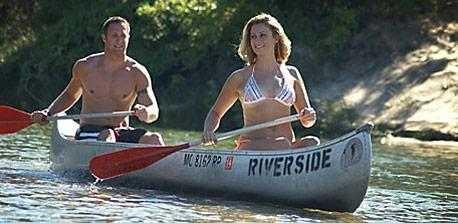kayak: (49, 118, 374, 212)
